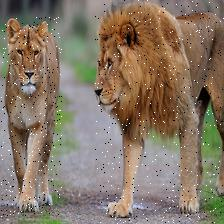Lion: (95, 0, 224, 224), (0, 17, 62, 216)
